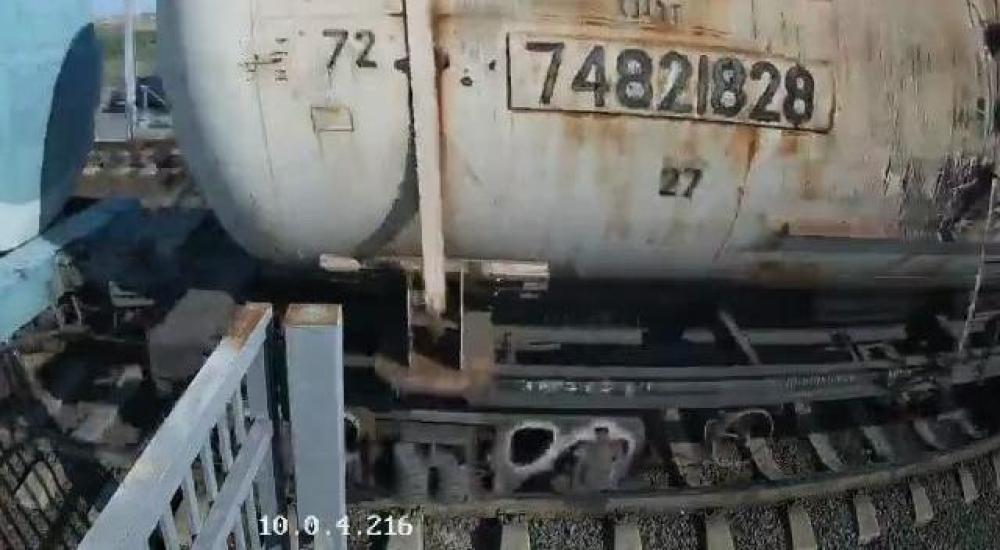Wagon-number: (522, 36, 821, 128)
